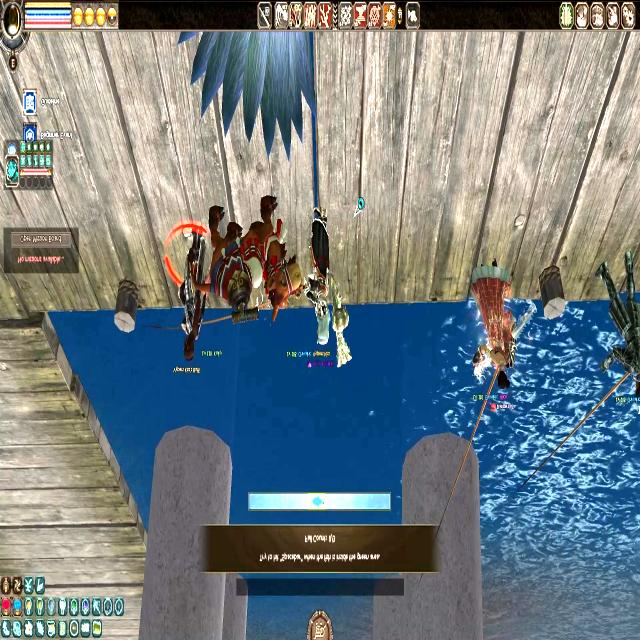fishes: (309, 493, 326, 510)
